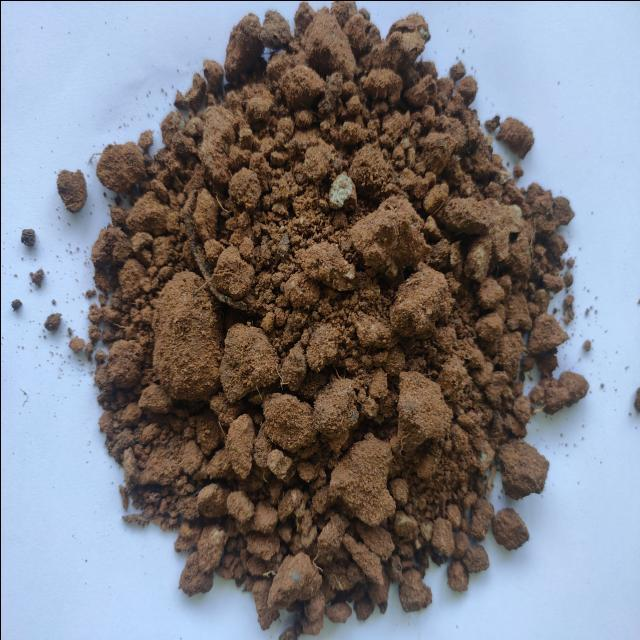soil: (148, 130, 468, 544)
